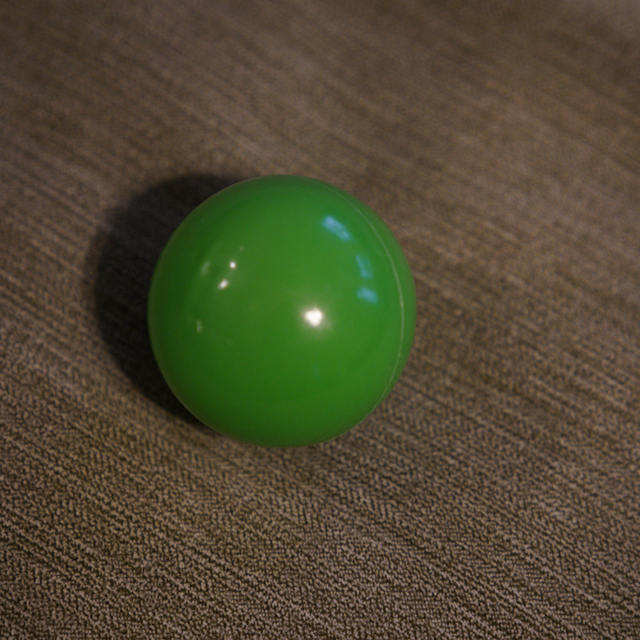Ball: (143, 176, 417, 446)
